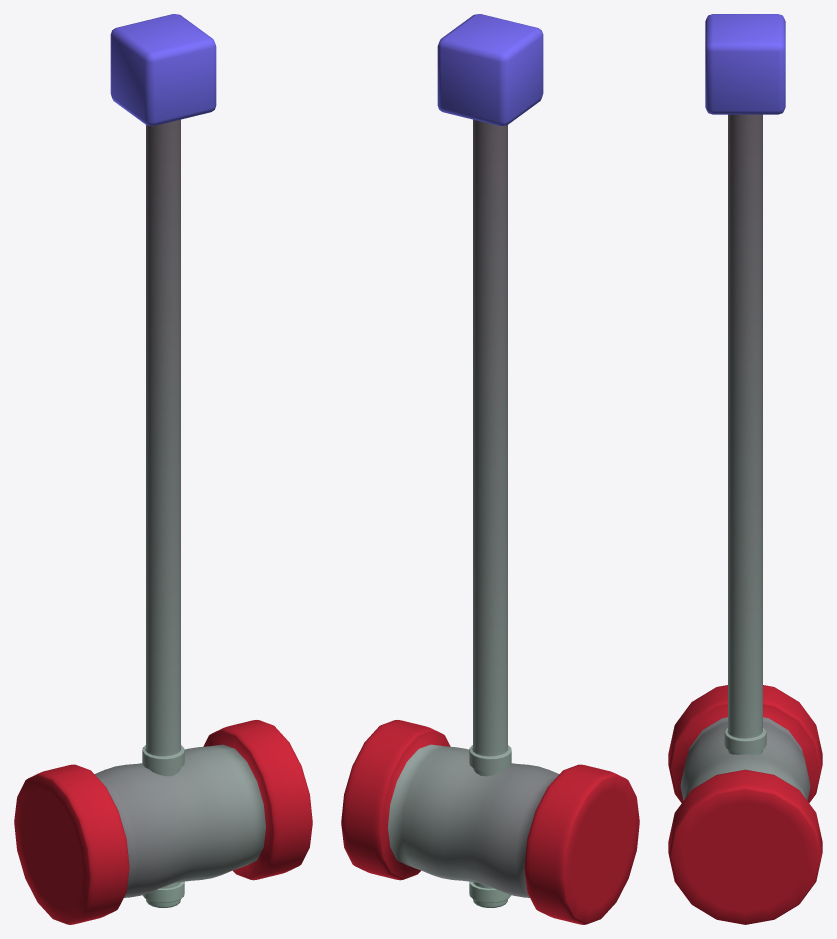
Rendered from Obs_21.fbx.
3 renders of one model, left to right at view 1: azimuth 30°, elevation 25°; view 2: azimuth 150°, elevation 25°; view 3: azimuth 270°, elevation 25°, orthographic.
Visible parts, largest first — view 1: Obs_21_Hammer, Obs_21_Hammer_01, Obs_21_Top; view 2: Obs_21_Hammer, Obs_21_Hammer_01, Obs_21_Top; view 3: Obs_21_Hammer, Obs_21_Hammer_01, Obs_21_Top.
Part boxes in pixels (<box>): Obs_21_Hammer: <box>14,720,312,924</box>; Obs_21_Hammer_01: <box>142,119,184,907</box>; Obs_21_Top: <box>110,14,216,126</box>; Obs_21_Hammer: <box>341,720,639,924</box>; Obs_21_Hammer_01: <box>469,119,511,907</box>; Obs_21_Top: <box>437,14,543,126</box>; Obs_21_Hammer: <box>668,685,822,924</box>; Obs_21_Hammer_01: <box>724,114,766,754</box>; Obs_21_Top: <box>705,14,785,114</box>.
Bounding box in the file's own units: 1.47 × 5.46 × 0.8928.
